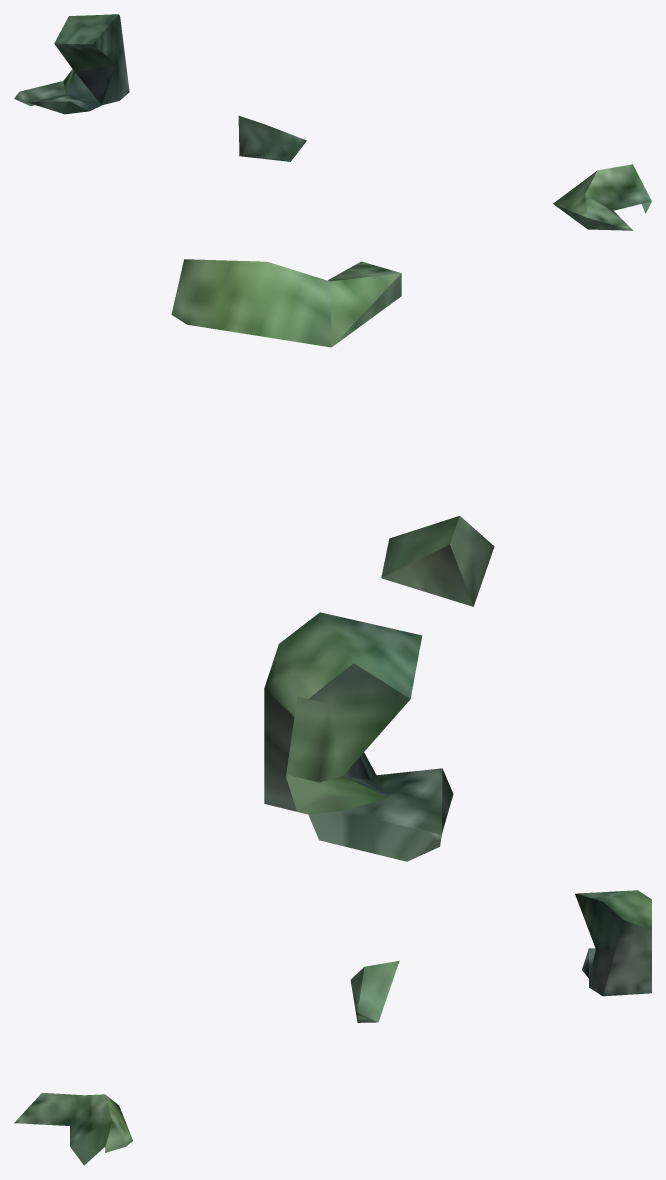
The picture shows the model from 3 angles, top to bottom: view 1: azimuth 30°, elevation 25°; view 2: azimuth 150°, elevation 25°; view 3: azimuth 270°, elevation 25°; orthographic projection. The views are drawn at different scales.
Parts seen in each view (by area): view 1: 30436272704361637616_0; view 2: 30436272704361637616_0; view 3: 30436272704361637616_0.
Boxes of the visible parts, <box> form: 30436272704361637616_0: <box>14,14,651,230</box>; 30436272704361637616_0: <box>171,259,494,861</box>; 30436272704361637616_0: <box>14,890,651,1165</box>.
Size of the model in its own units: 10.43 by 2.62 by 14.04.
Materials: 1 (1 with a texture image).
